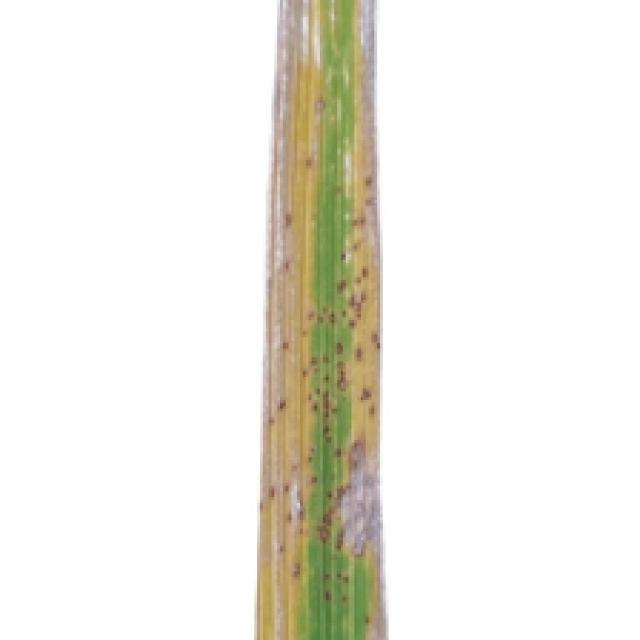Rice___Brown_Spot: (255, 0, 389, 637)
